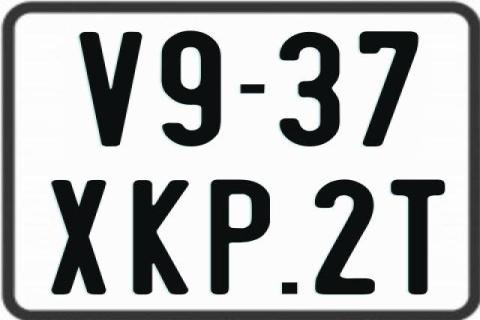0: (314, 178, 380, 296), (160, 29, 225, 147), (277, 31, 341, 146), (356, 30, 416, 146)
K: (131, 180, 187, 296)
P: (208, 178, 273, 294)
T: (392, 178, 452, 294)
V: (80, 32, 147, 150)
X: (49, 179, 104, 295)
